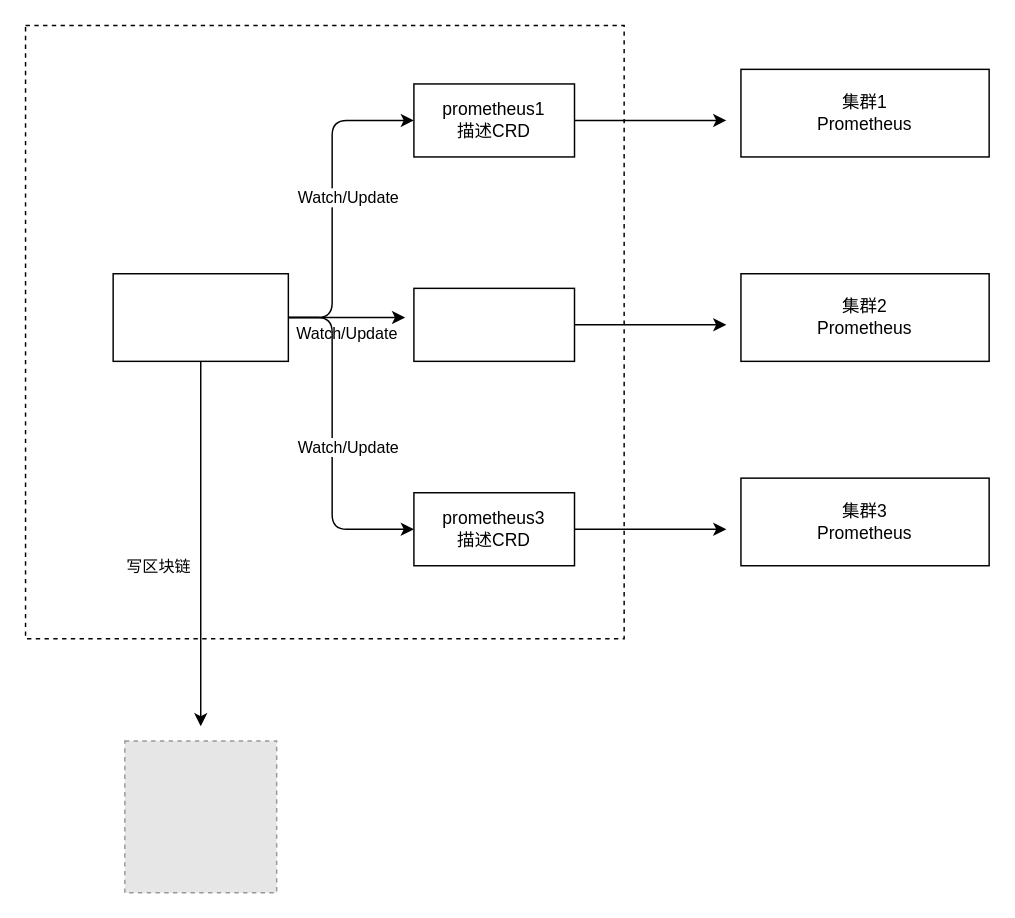
Some shapes in this 1015 by 918 pixel diagram are drawn without their labels. Grey dashed boxes stand in for pictures. Each missing label, with the box of its shape:
prometheus2 描述CRD: (412, 287, 575, 361)
计量组件: (112, 272, 288, 361)
